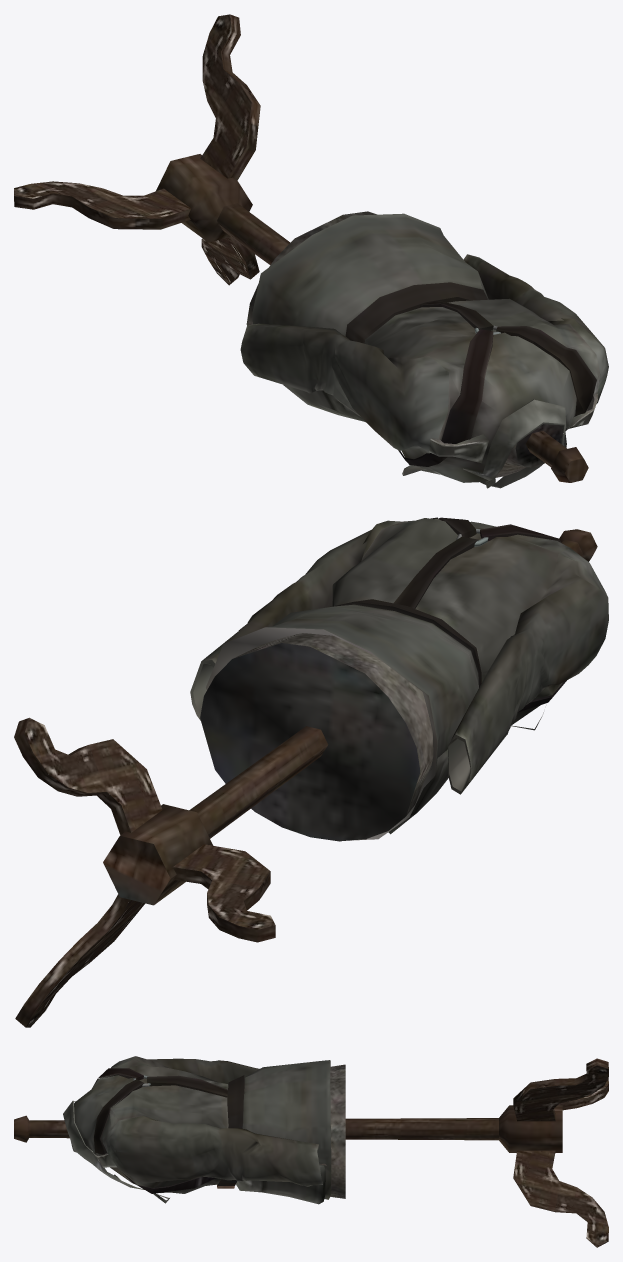
Rendered from mannequin_dressform_coat_obj.glb.
3 renders of one model, top to bottom at view 1: azimuth 30°, elevation 25°; view 2: azimuth 150°, elevation 25°; view 3: azimuth 270°, elevation 25°, orthographic. The views are drawn at different scales.
Size of the model in its own units: 27.62 by 26.29 by 74.66.
Materials: 2 (2 with a texture image).
